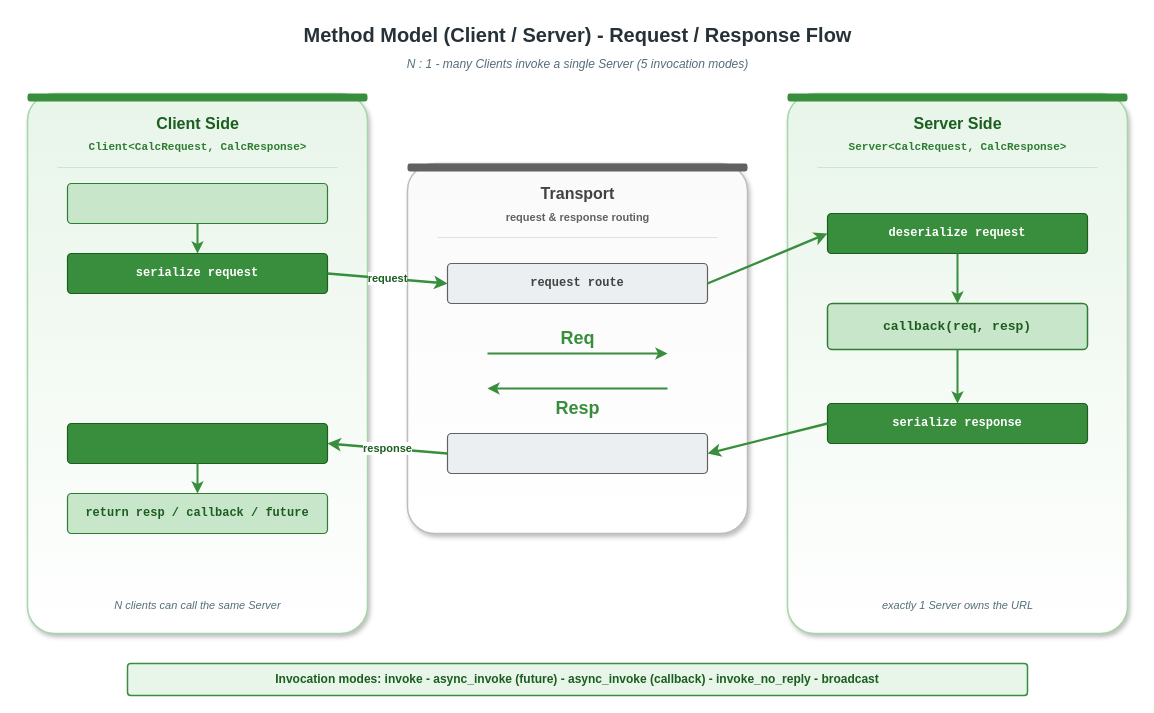
This 1154x713 diagram has some shape labels left out. The shapes that lost their labels are listed below. From the top down, each one's centre as x and y in pixels, then its label:
[197,203]: invoke(req) / async_invoke(req)
[197,443]: receive & deserialize response
[577,453]: response route
